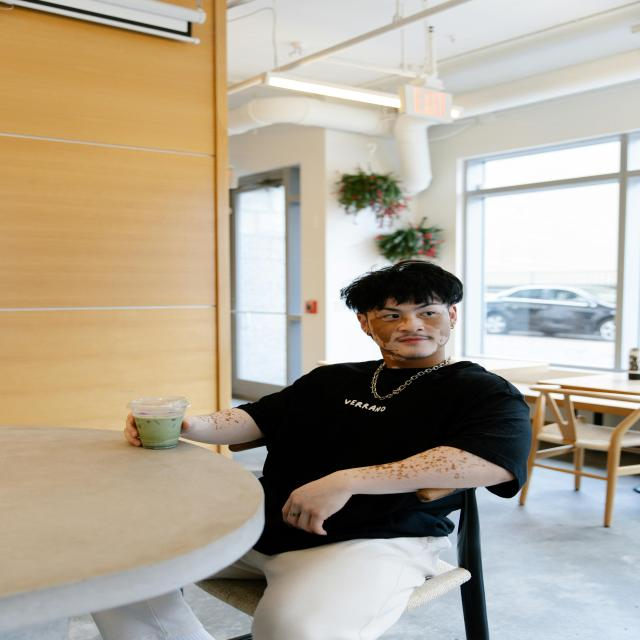sit: (145, 261, 504, 636)
